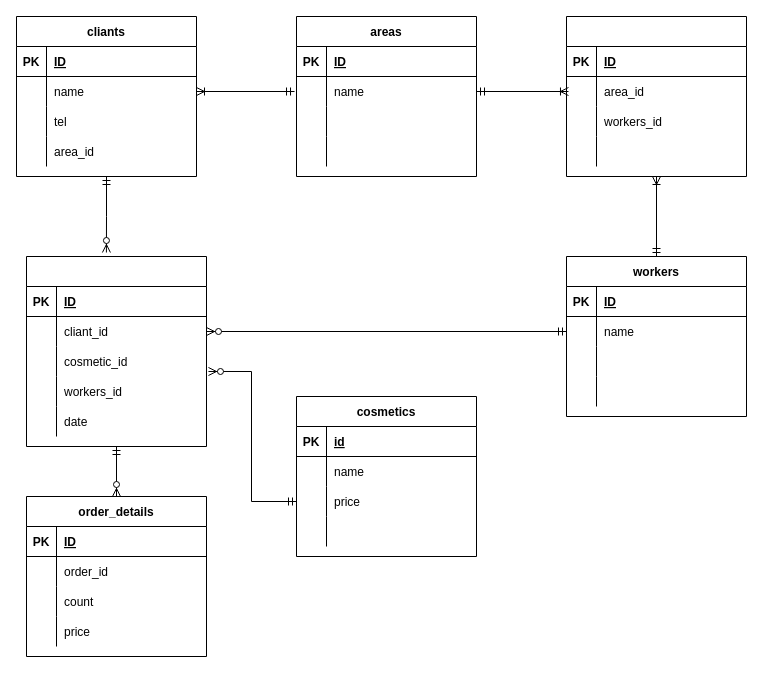
Some shapes in this 763 by 673 pixel diagram are drawn without their labels. The shapes that lost their labels are listed below. From the top down, each one's box as (x1, y1, x2, y2) in pixels, then its label:
(566, 16, 746, 176): workersareas
(26, 256, 206, 446): orders
